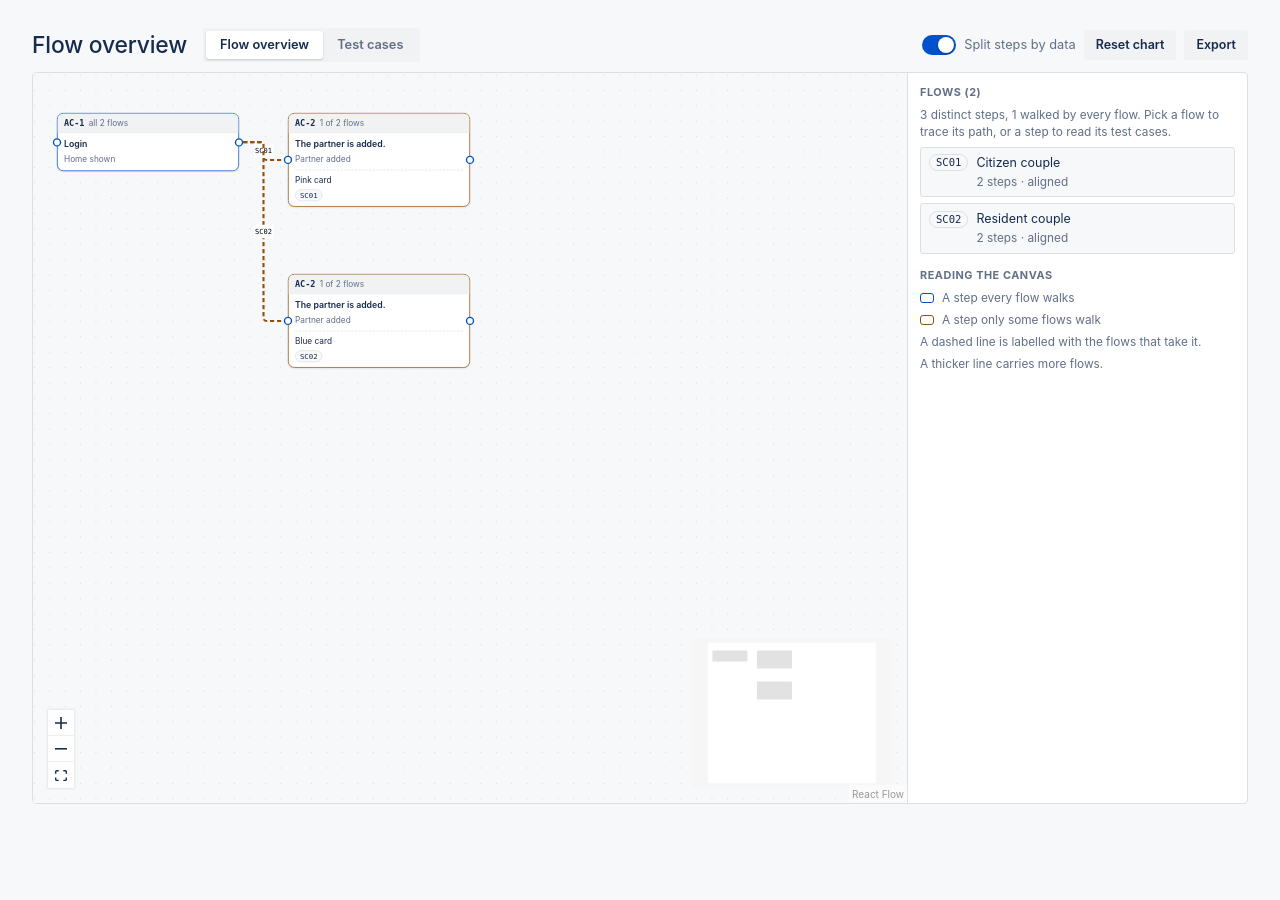
FlowOverviewPage › opens a picked step on the test case each flow runs there
Expected: the heading "Flow overview" is shown, [32,29,187,62]
Expected: the number of elements with class "fo-node" is 3, [57,113,239,172]; [288,113,470,207]; [288,274,470,368]
Click the text "Blue card" at (314, 342), box [295,337,332,346]
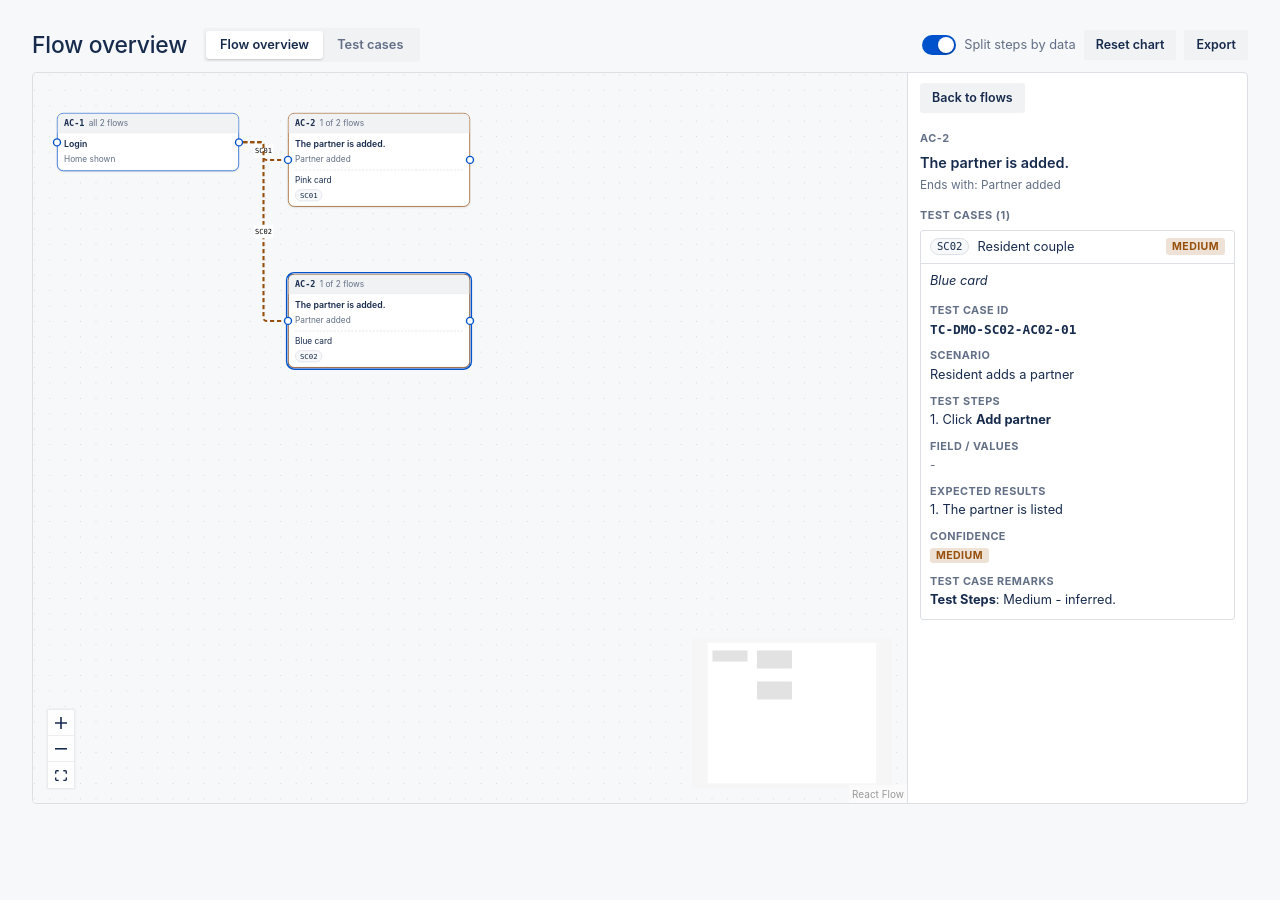
Expected: the 3rd element with class "fo-node" is shown, [288,274,470,368]
Expected: the text "TC-DMO-SC02-AC02-01" is shown, [930,322,1076,337]
Click the button "Back to flows" at (972, 98), box [920,83,1025,113]
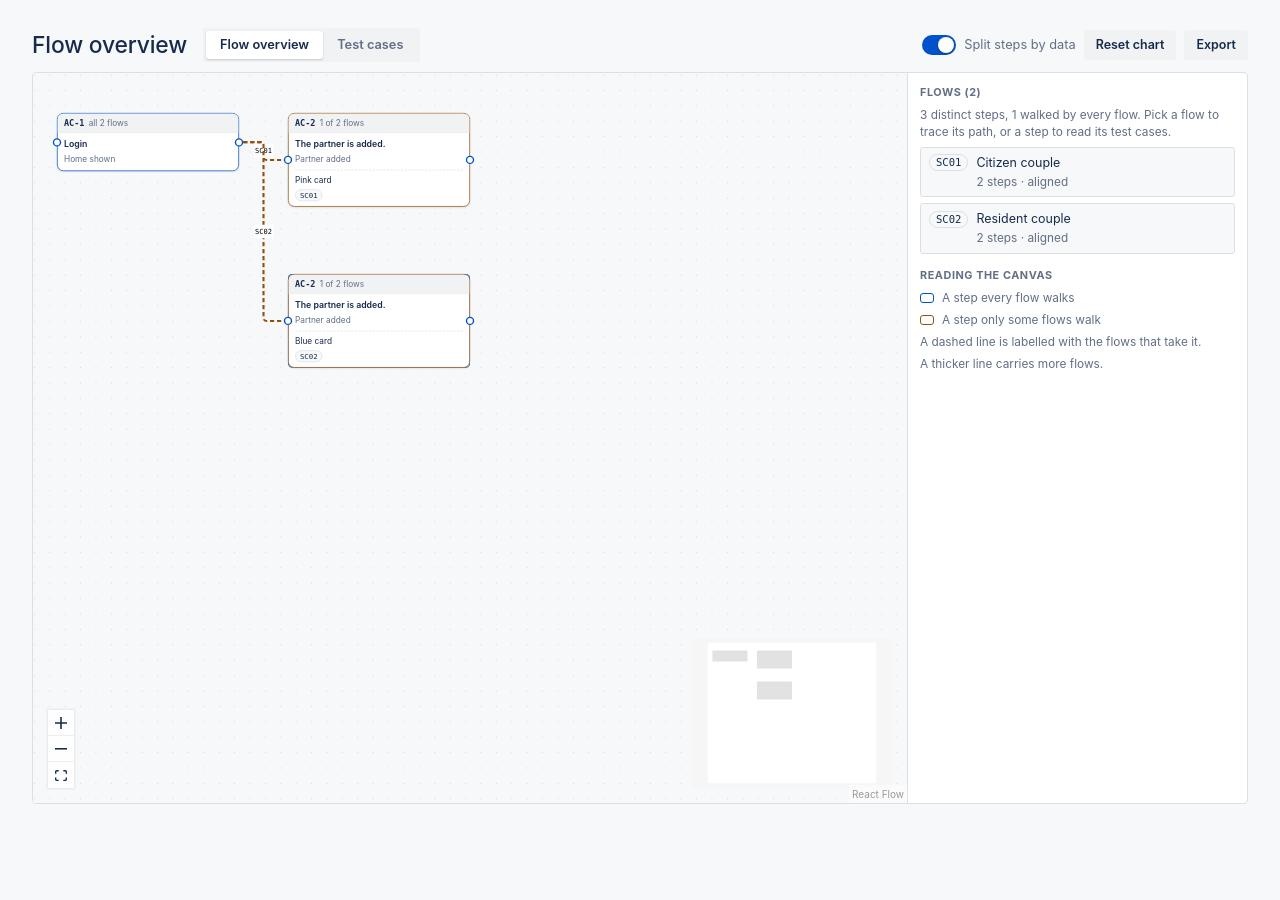
Expected: the element with class "fb-panel" shows "Flows (2)", [907,73,1247,803]
